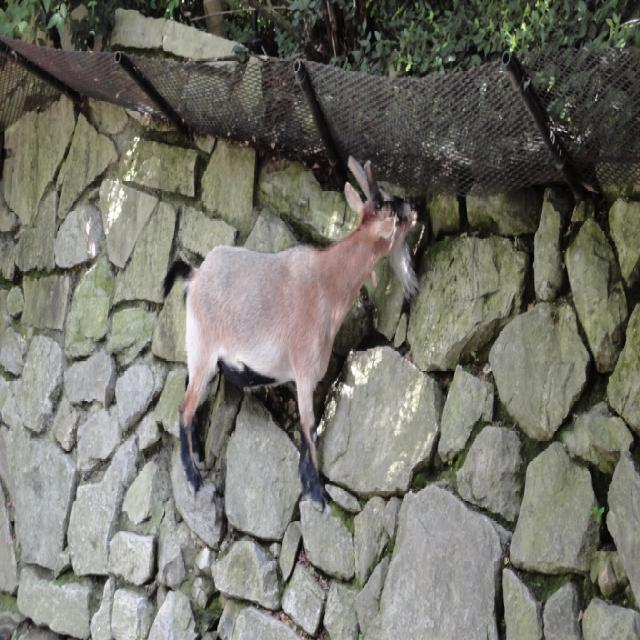Goat: (160, 155, 418, 511)
